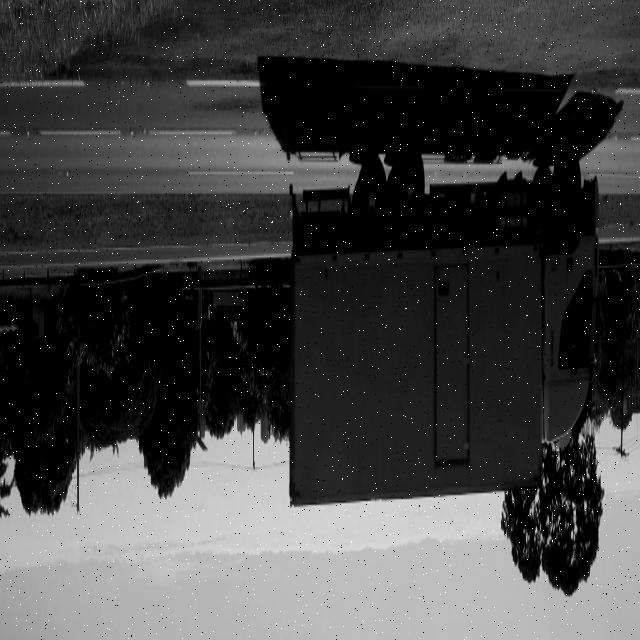-axle: (392, 149, 428, 231), (358, 156, 386, 240), (555, 147, 583, 227)
